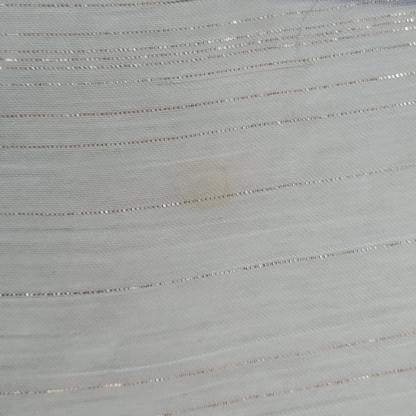spot: (180, 164, 242, 210)
